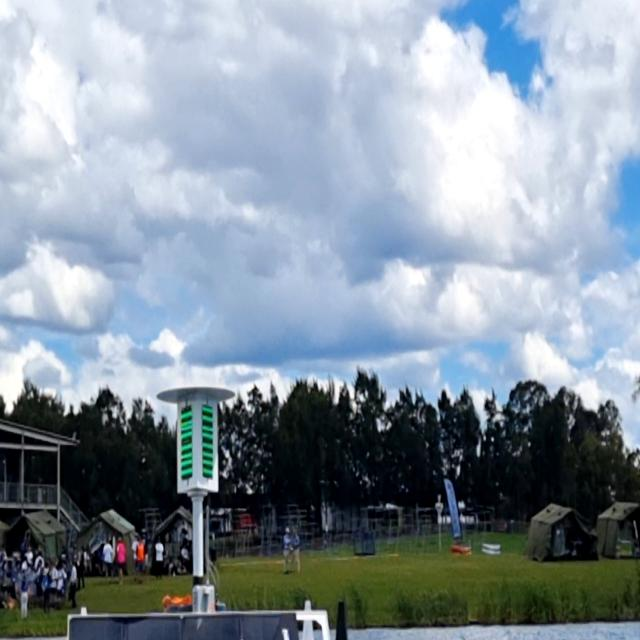led: (198, 401, 216, 486), (179, 400, 194, 482)
